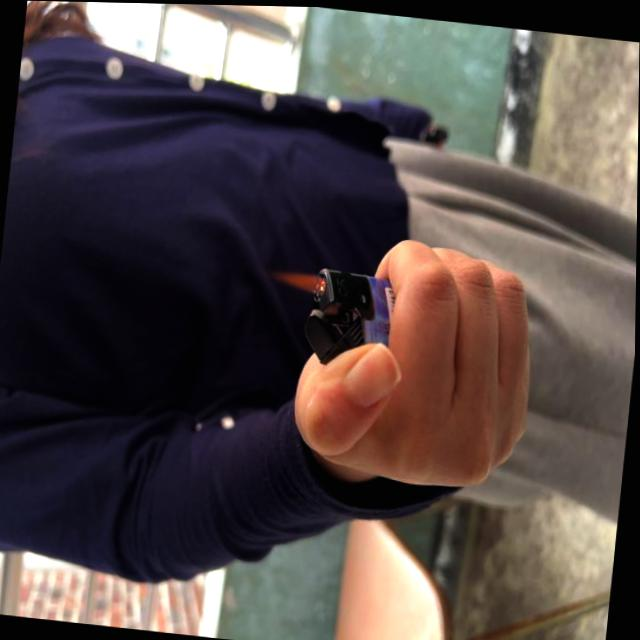Fire: (268, 266, 327, 294)
